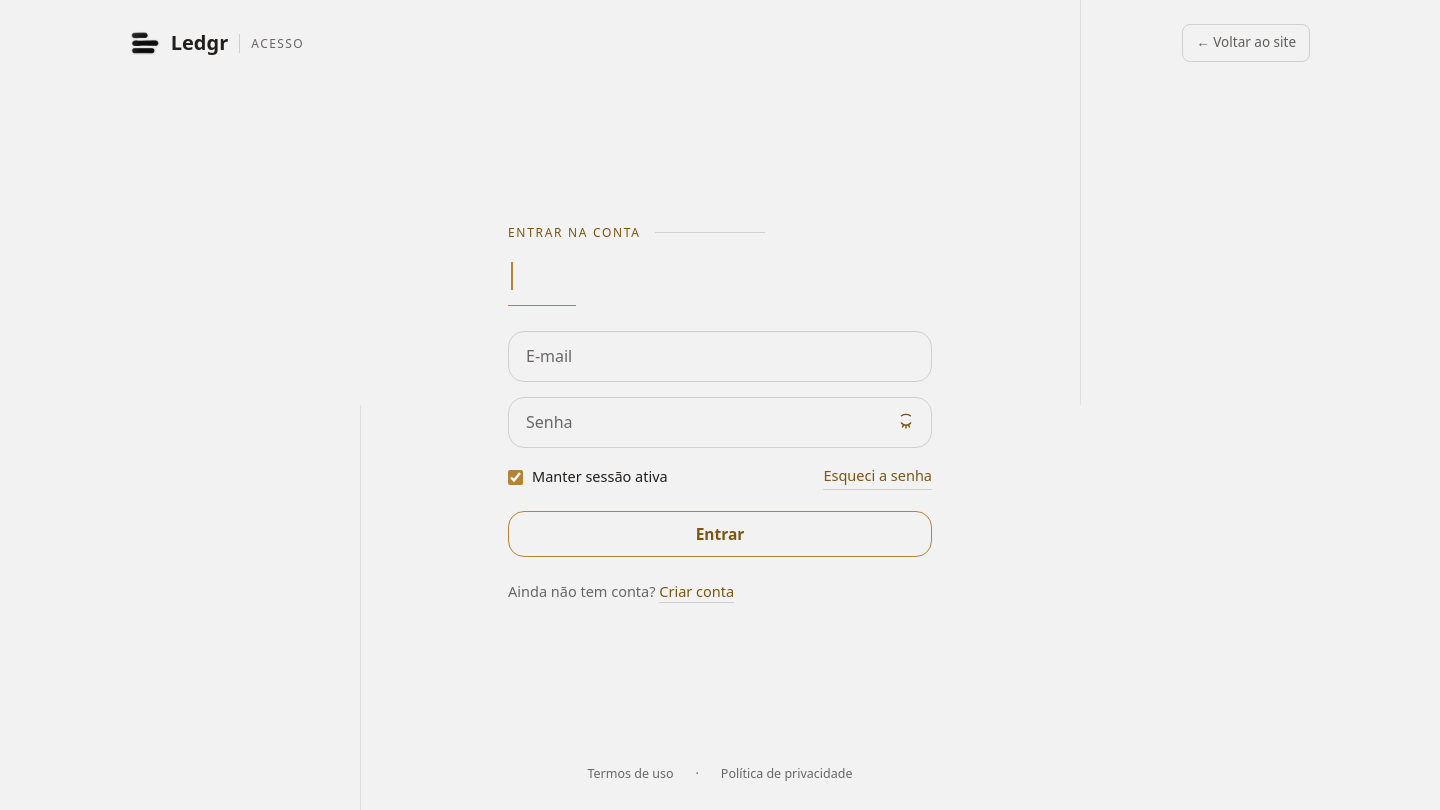
Test case: LoginPage › opens the password recovery card with the typed e-mail and returns focus when it closes
In the field labelled "E-mail": (720,356) [508, 330, 932, 382], type "financeiro@telhacerta.com.br"
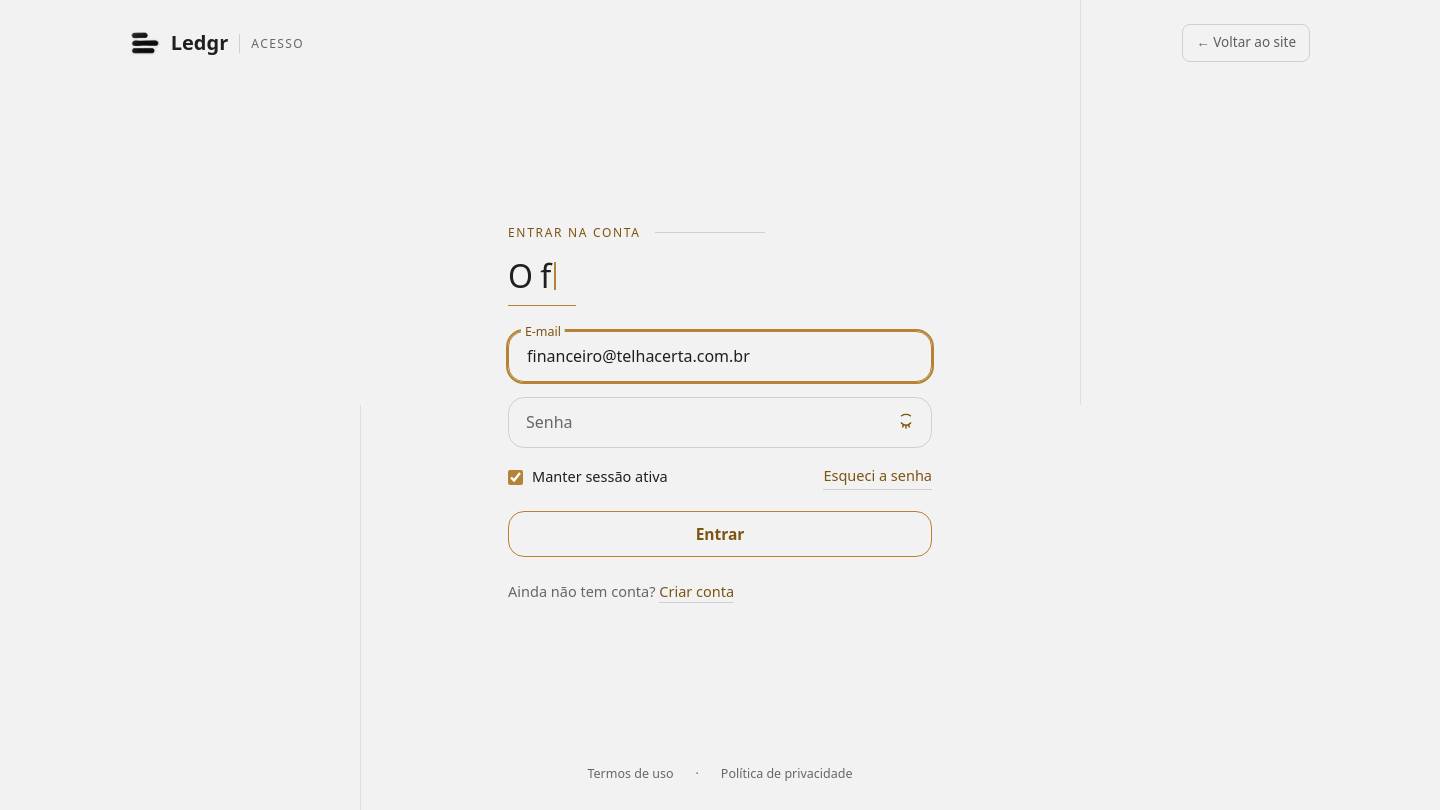
Click the button "Esqueci a senha": (878,477) [823, 464, 932, 490]
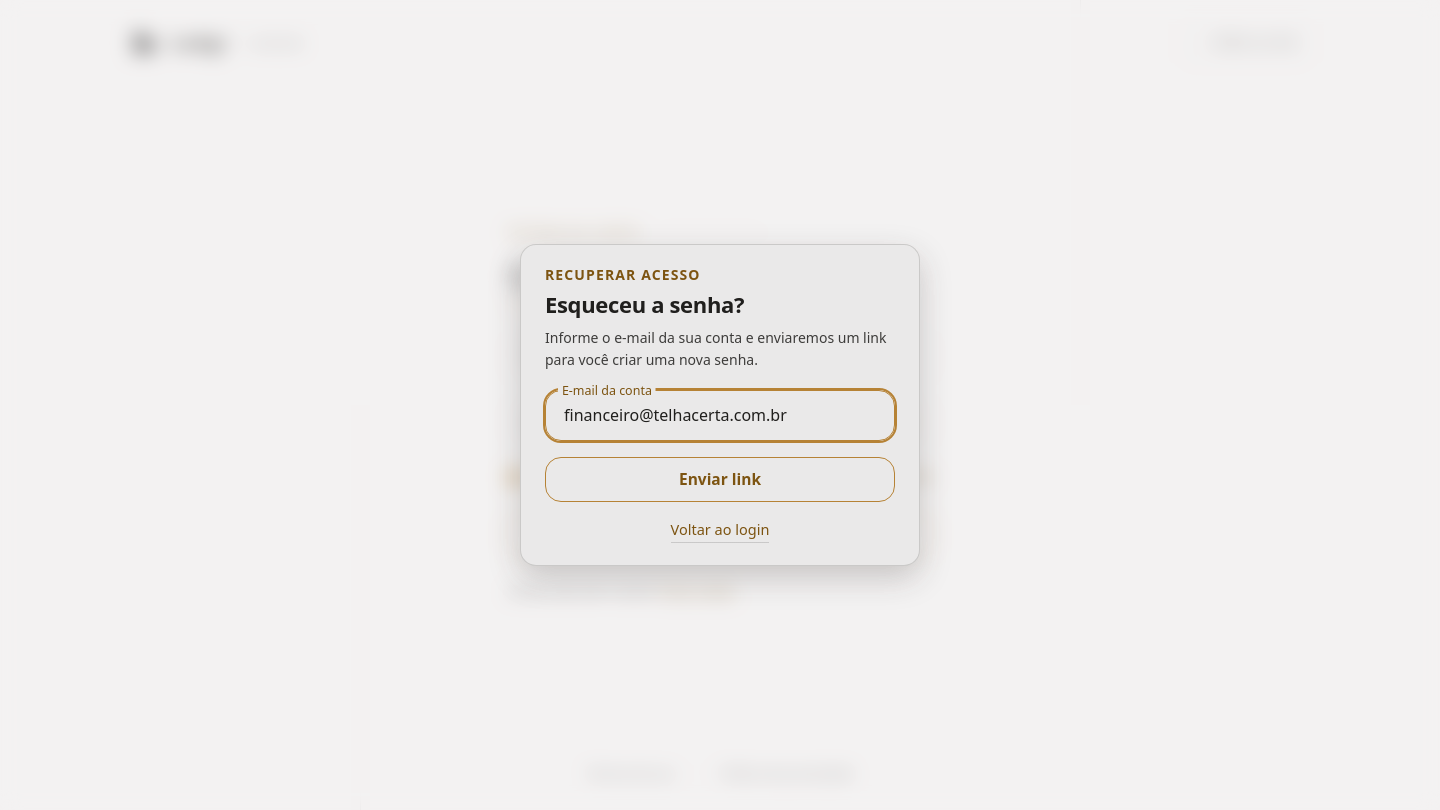
Expected: the field labelled "E-mail da conta" holds "financeiro@telhacerta.com.br", [545, 390, 895, 441]
Press Escape
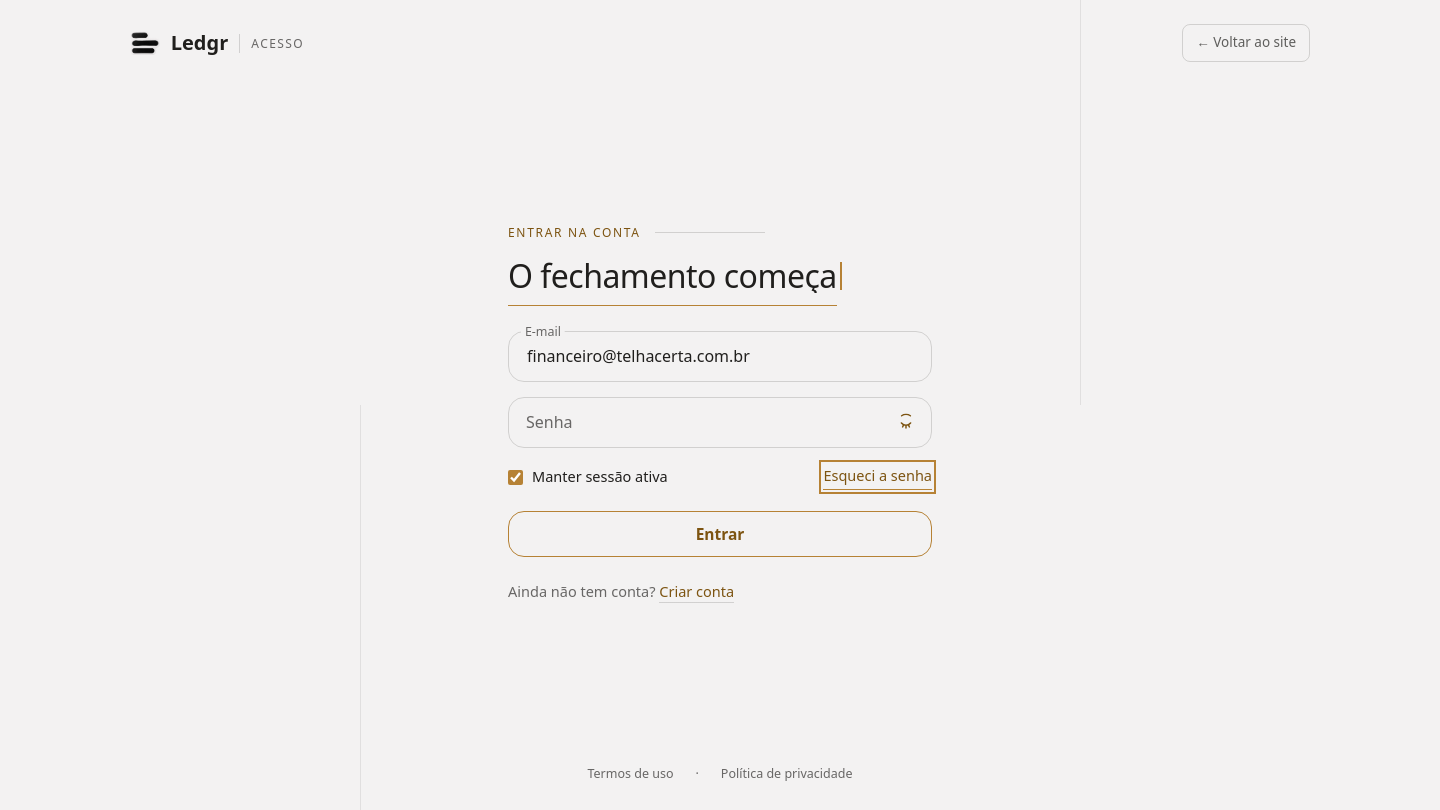
Expected: the dialog is gone
